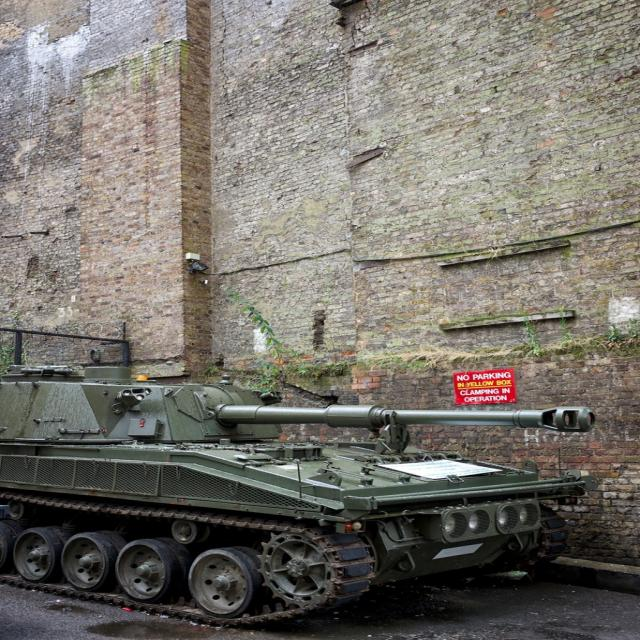tank: (0, 361, 598, 627)
